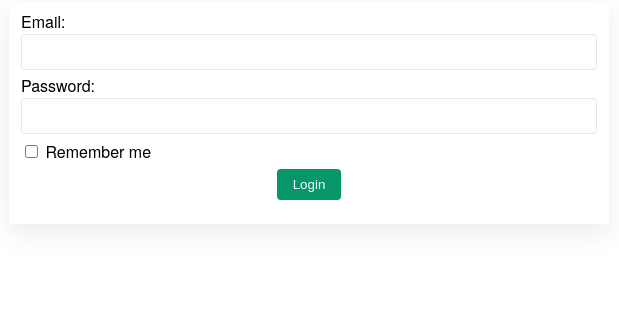
it: Login component › show/hide error message when password is invalid
Type "invalidpassword" into the password field labelled "Password:" at (309, 116), box [21,98,597,134]
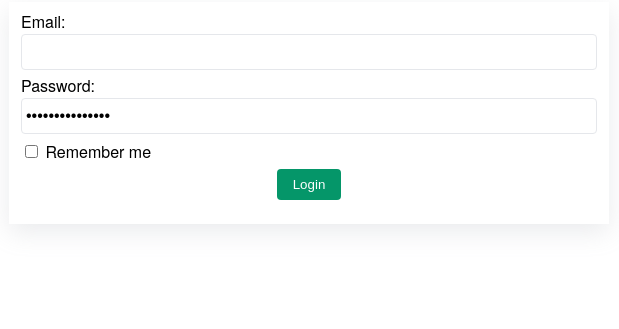
Click the button "Login" at (309, 184), box [277,169,341,200]
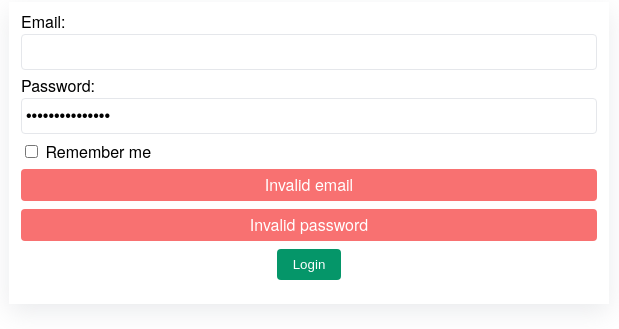
Now the text "Invalid password" is shown, box [21,209,597,241]
Type "Val1dPa55word" into the password field labelled "Password:" at (309, 116), box [21,98,597,134]
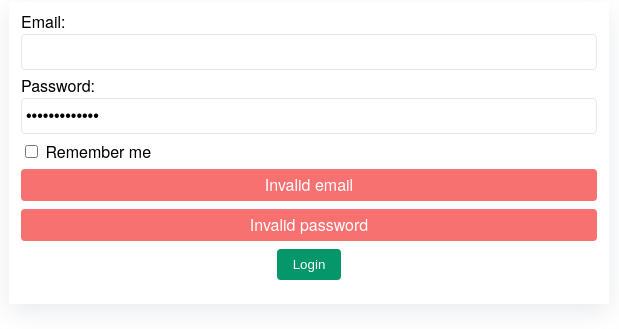
Click the button "Login" at (309, 264), box [277,249,341,280]
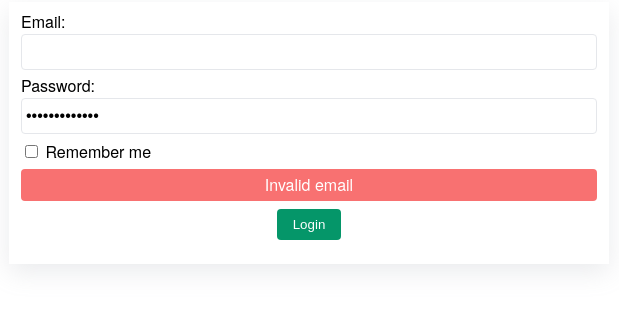
Now the text "Invalid password" is gone
